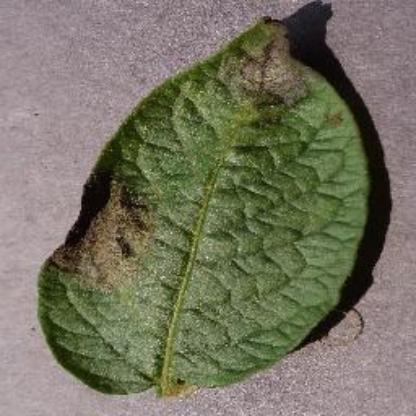Late-Blight: (23, 10, 383, 406)
